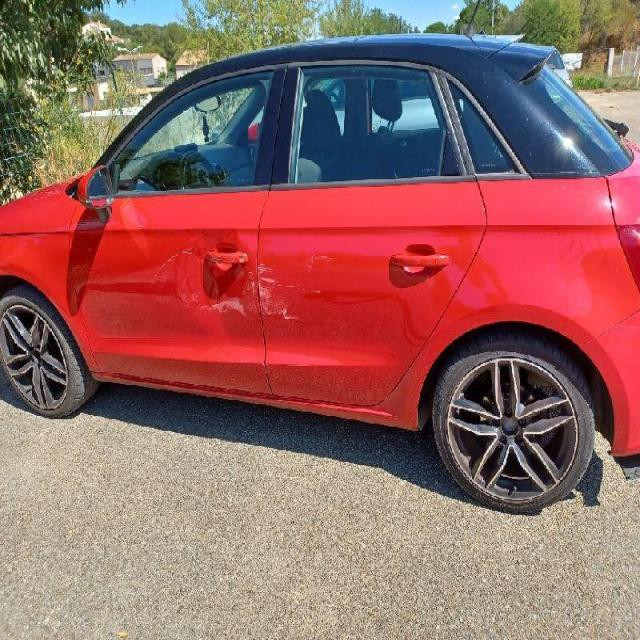porte-avant: (65, 62, 290, 402)
